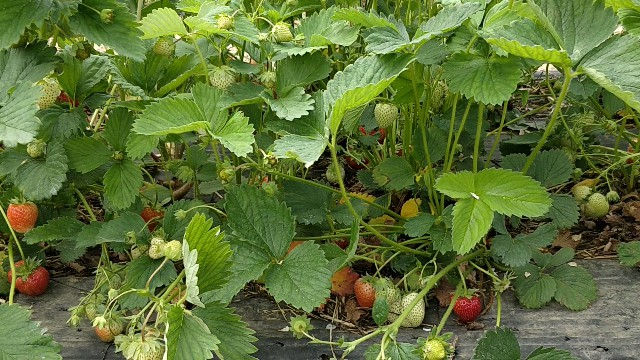strawberry: (5, 256, 50, 295), (449, 288, 481, 325), (137, 205, 165, 232)
